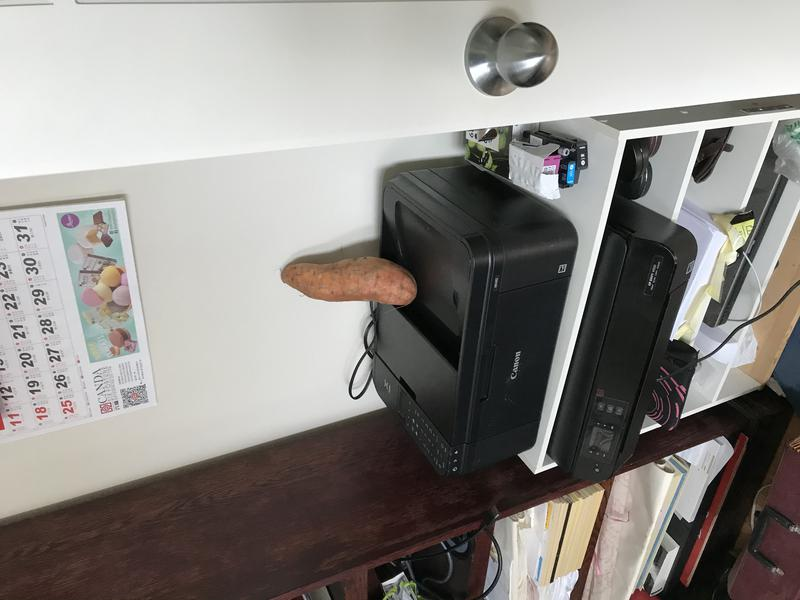sweet_potato: (273, 249, 424, 316)
